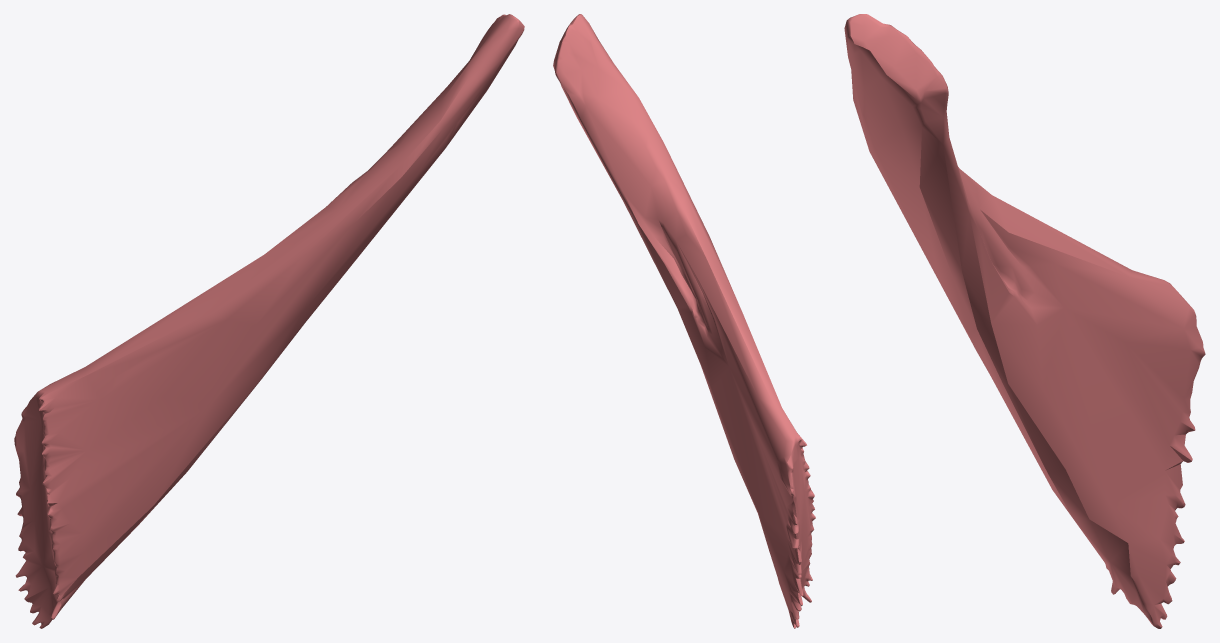
3 views of the same model, side by side, from view 1: azimuth 30°, elevation 25°; view 2: azimuth 150°, elevation 25°; view 3: azimuth 270°, elevation 25° (orthographic). The views are drawn at different scales.
Parts seen in each view (by area): view 1: FJ1404; view 2: FJ1404; view 3: FJ1404.
Boxes of the visible parts, bbox=[...] form: FJ1404: bbox=[14, 14, 524, 628]; FJ1404: bbox=[553, 14, 815, 628]; FJ1404: bbox=[844, 14, 1205, 628].
Size of the model in its own units: 0.085 by 0.1206 by 0.0449.
